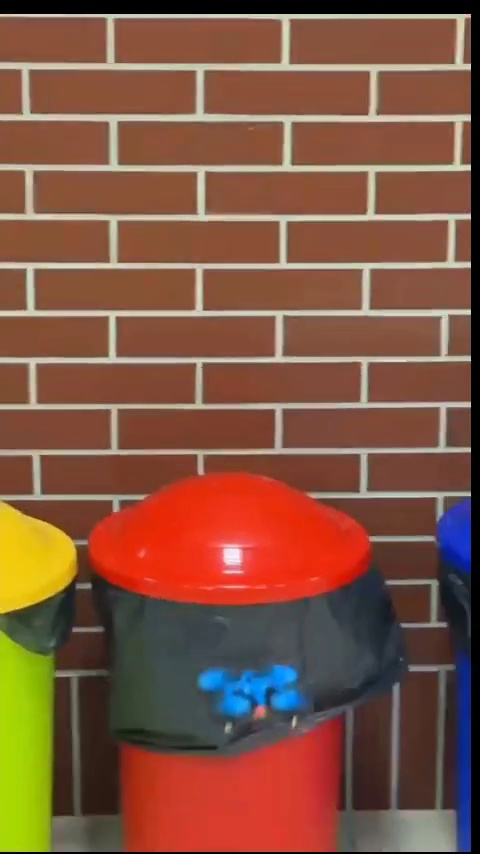drone: (198, 664, 307, 739)
